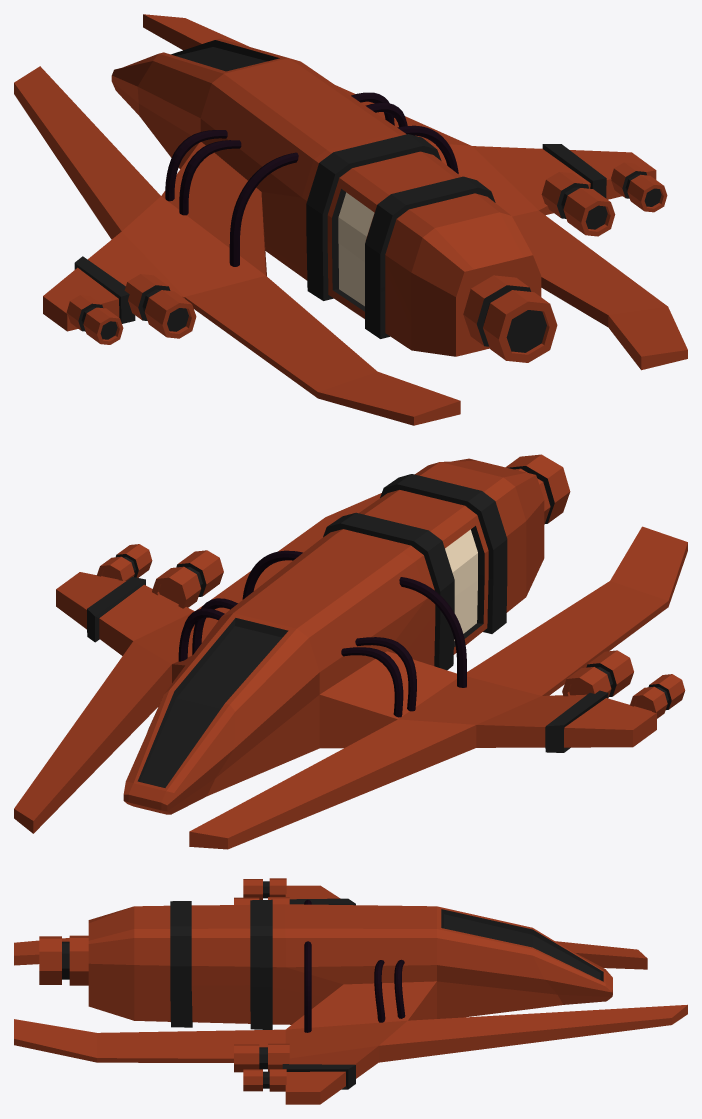
Rendered from Statek_Kosmiczny_Caly.fbx.
3 renders of one model, top to bottom at view 1: azimuth 30°, elevation 25°; view 2: azimuth 150°, elevation 25°; view 3: azimuth 270°, elevation 25°, orthographic. The views are drawn at different scales.
Parts seen in each view (by area): view 1: Cube.055, Cube.065, Circle.002; view 2: Cube.055, Cube.065, Circle.002; view 3: Cube.055, Cube.065, Circle.002.
Part boxes in pixels (left/top/right/bottom): Cube.055: left=14, top=14, right=687, bottom=425; Cube.065: left=66, top=162, right=667, bottom=362; Circle.002: left=165, top=92, right=458, bottom=266; Cube.055: left=14, top=458, right=687, bottom=849; Cube.065: left=96, top=454, right=685, bottom=718; Circle.002: left=178, top=550, right=466, bottom=717; Cube.055: left=14, top=885, right=687, bottom=1104; Cube.065: left=39, top=878, right=289, bottom=1091; Circle.002: left=304, top=900, right=405, bottom=1032.
Size of the model in its own units: 4006 by 862 by 5531.
